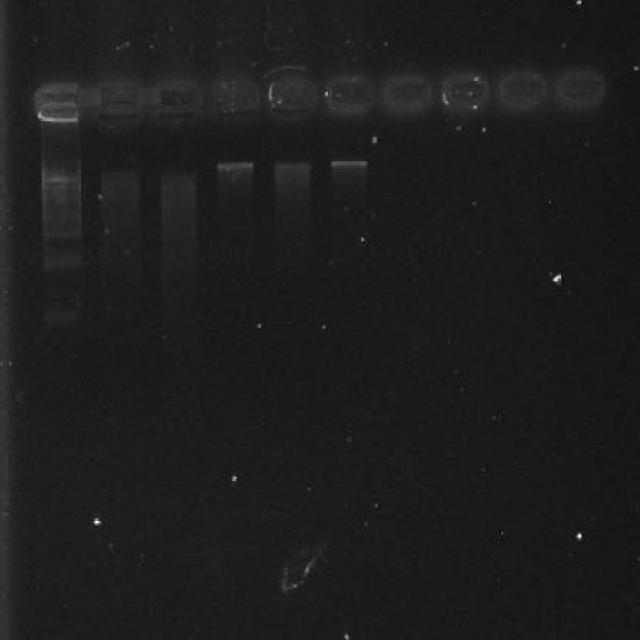B: (268, 157, 316, 177), (213, 156, 256, 175), (326, 157, 372, 174)
L: (19, 54, 618, 138)
M: (32, 149, 90, 342)
P: (38, 303, 84, 331), (39, 192, 84, 216), (38, 218, 84, 240), (40, 168, 82, 192), (40, 250, 85, 272)
Pc: (264, 63, 322, 123), (150, 65, 204, 128), (208, 64, 264, 124), (91, 68, 144, 130), (382, 63, 435, 122), (437, 64, 492, 120), (496, 62, 550, 118), (553, 60, 609, 114), (326, 66, 380, 120), (31, 78, 84, 128)
